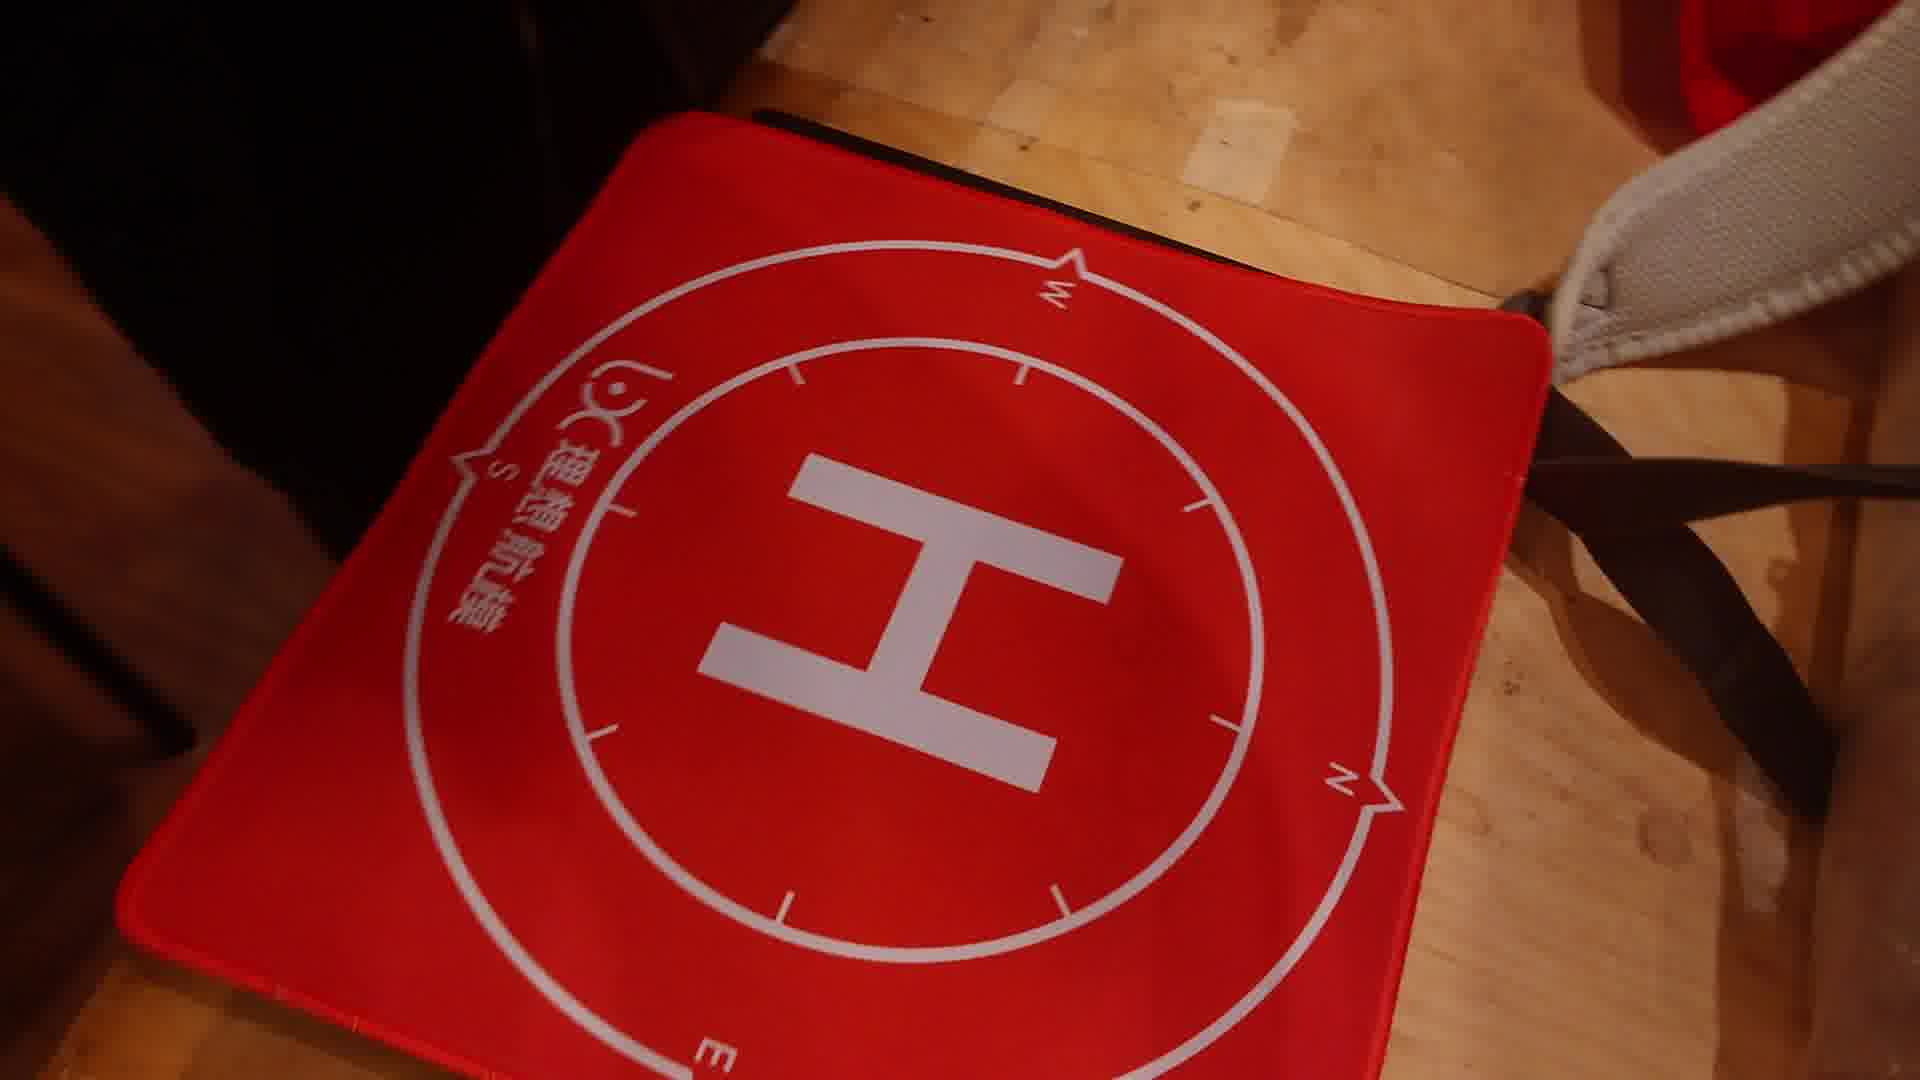H: (698, 452, 1125, 793)
